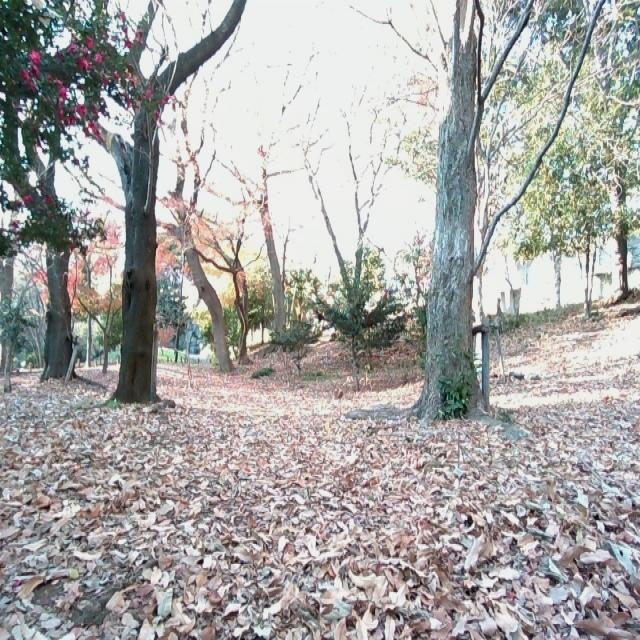bush: (311, 255, 412, 366), (417, 349, 478, 426), (266, 313, 322, 369)
tree: (388, 0, 607, 421), (74, 0, 235, 411), (143, 0, 258, 383), (0, 0, 86, 381), (223, 42, 306, 332), (605, 0, 640, 301)
